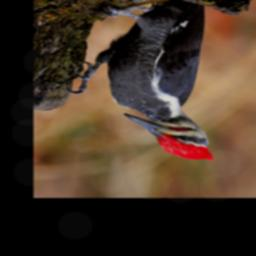Woodpecker: (65, 0, 214, 161)
